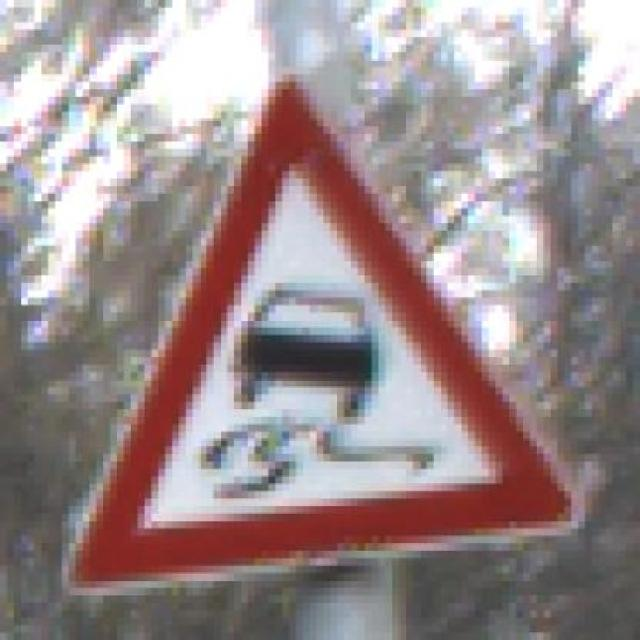Slippery Road Ahead: (41, 74, 585, 595)
